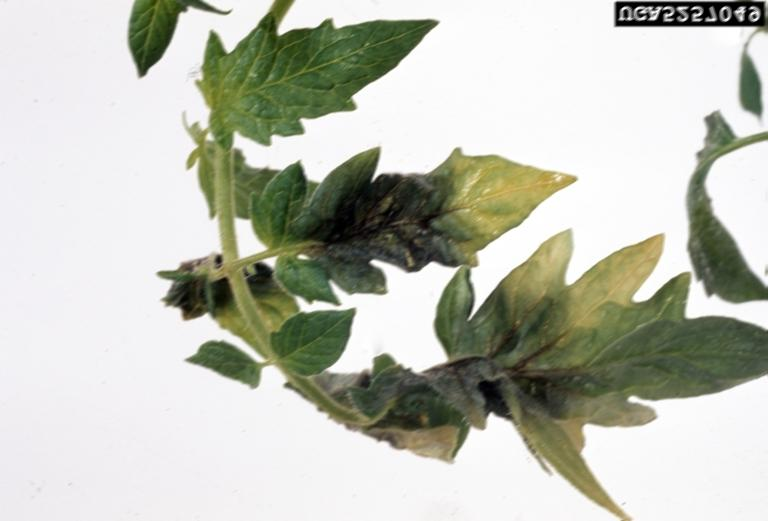Tomato leaf late blight: (435, 233, 768, 427), (255, 139, 583, 299), (166, 14, 454, 162)
